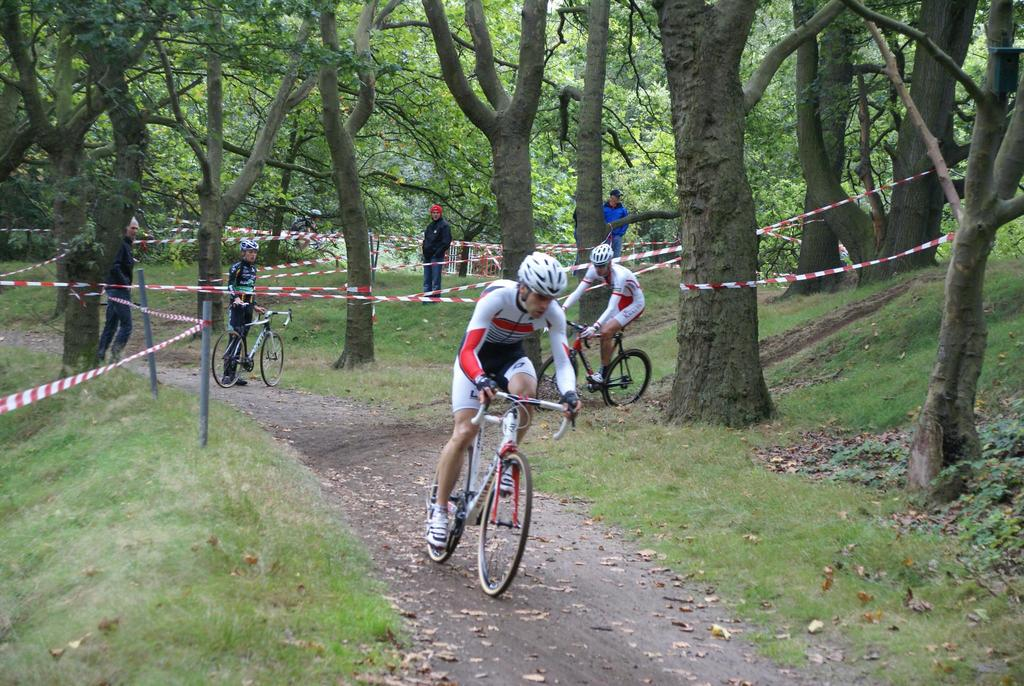Bike_toward: (427, 380, 570, 614)
